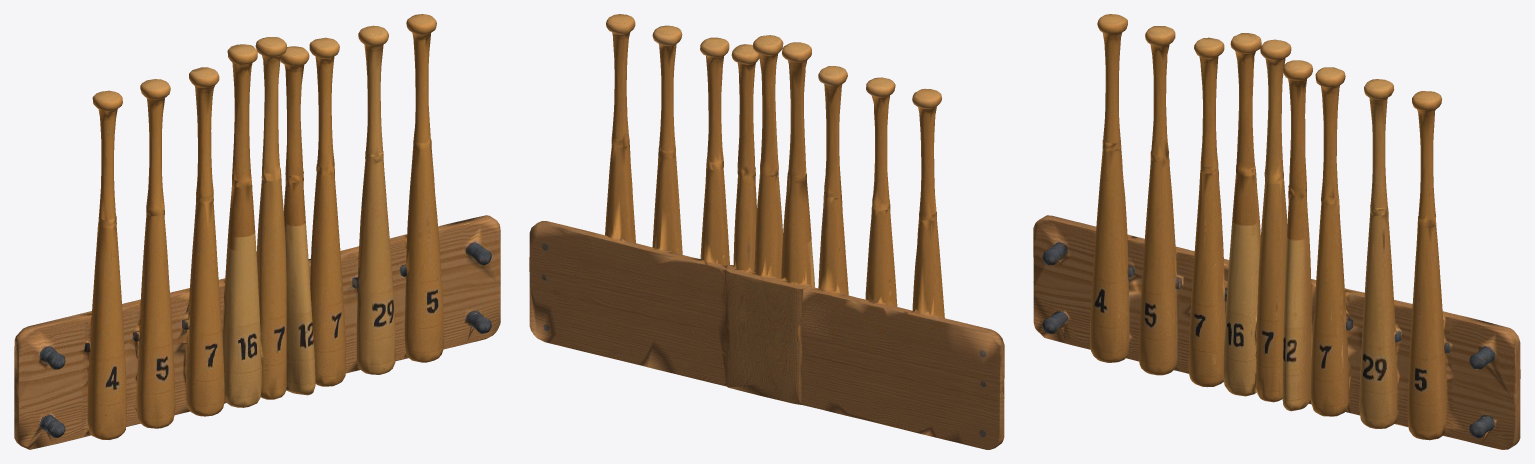
Rendered from bat_rack.glb.
The picture shows the model from 3 angles, left to right: view 1: azimuth 30°, elevation 25°; view 2: azimuth 150°, elevation 25°; view 3: azimuth 330°, elevation 25°; orthographic projection. The views are drawn at different scales.
Size of the model in its own units: 1.9 by 1.34 by 0.1768.
Materials: 1 (1 with a texture image).
